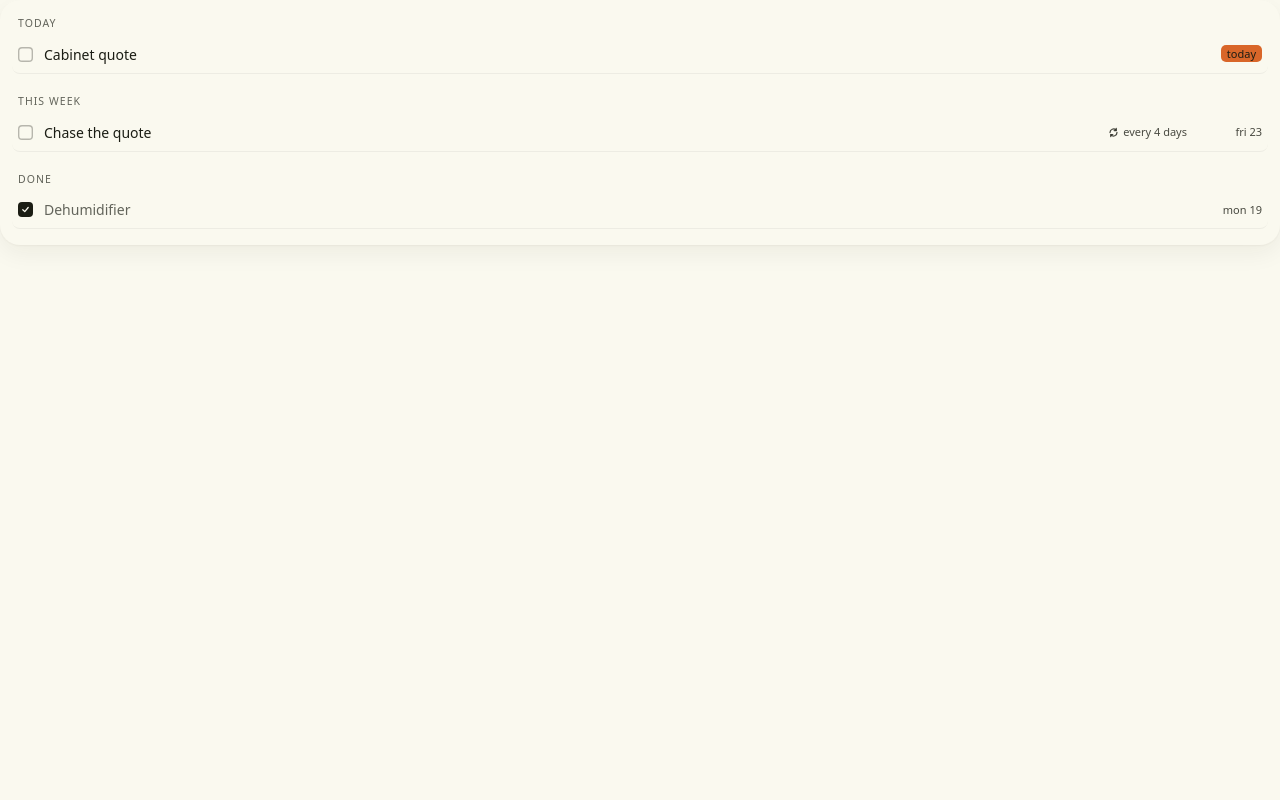
Test: list — selection and the record peek › a click selects the row and opens its record
Step 1. Click the button "Cabinet quote" → (90, 54), box top-left (44, 44), bottom-right (1187, 65)
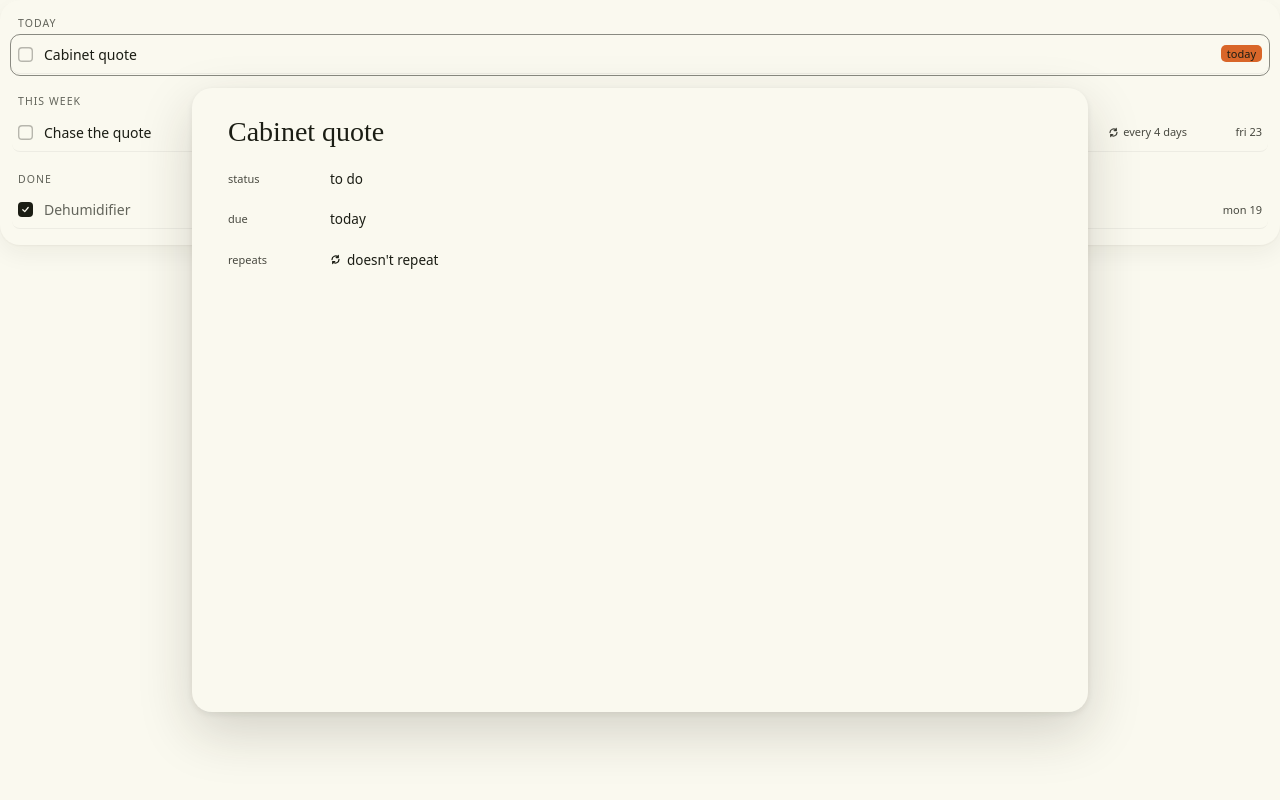
Result: the text "Cabinet quote" is shown at top-left (228, 116), bottom-right (384, 147)
